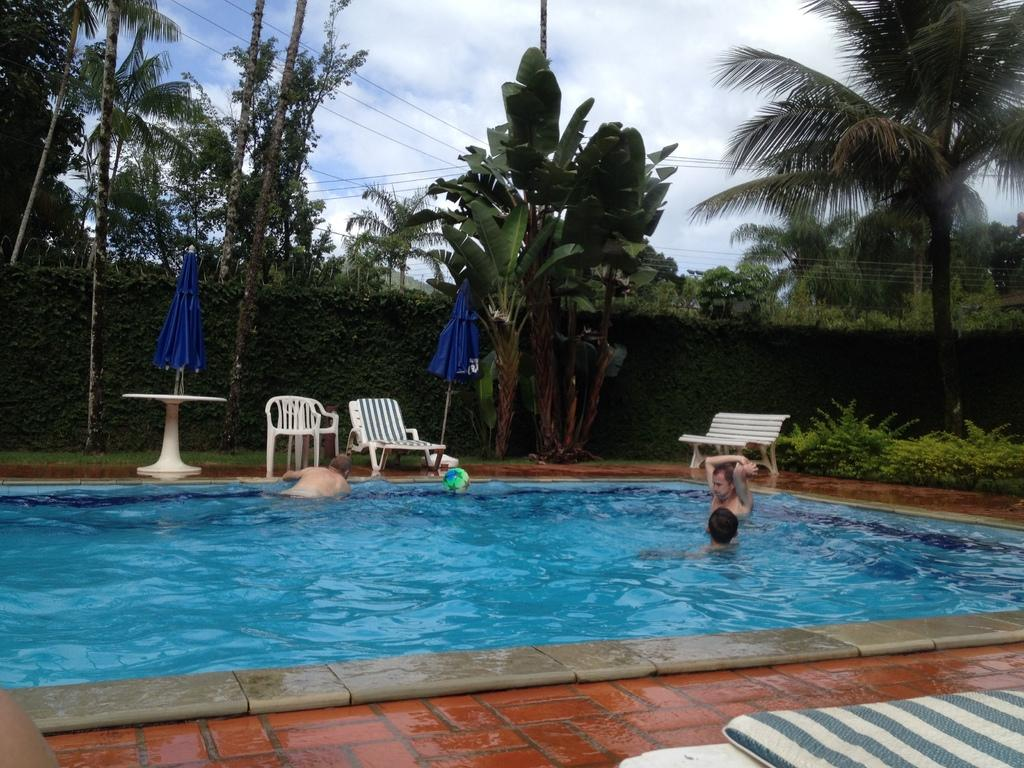Chair: (345, 397, 446, 476), (677, 411, 790, 475), (264, 394, 339, 478)
